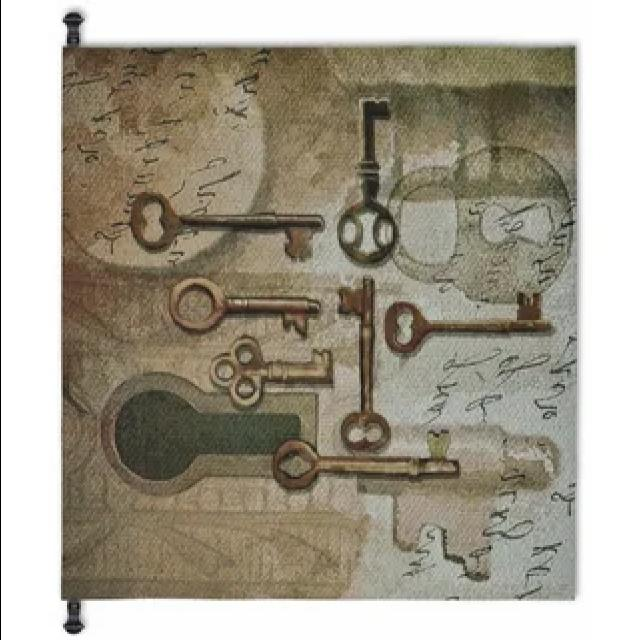key: (115, 180, 329, 274), (377, 291, 560, 362), (206, 332, 336, 416)
